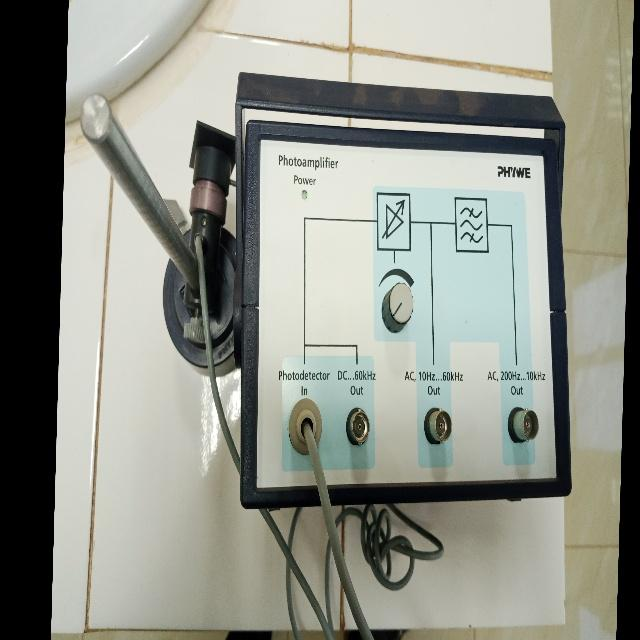Photo Amplifier Power Supply: (65, 35, 594, 565)
